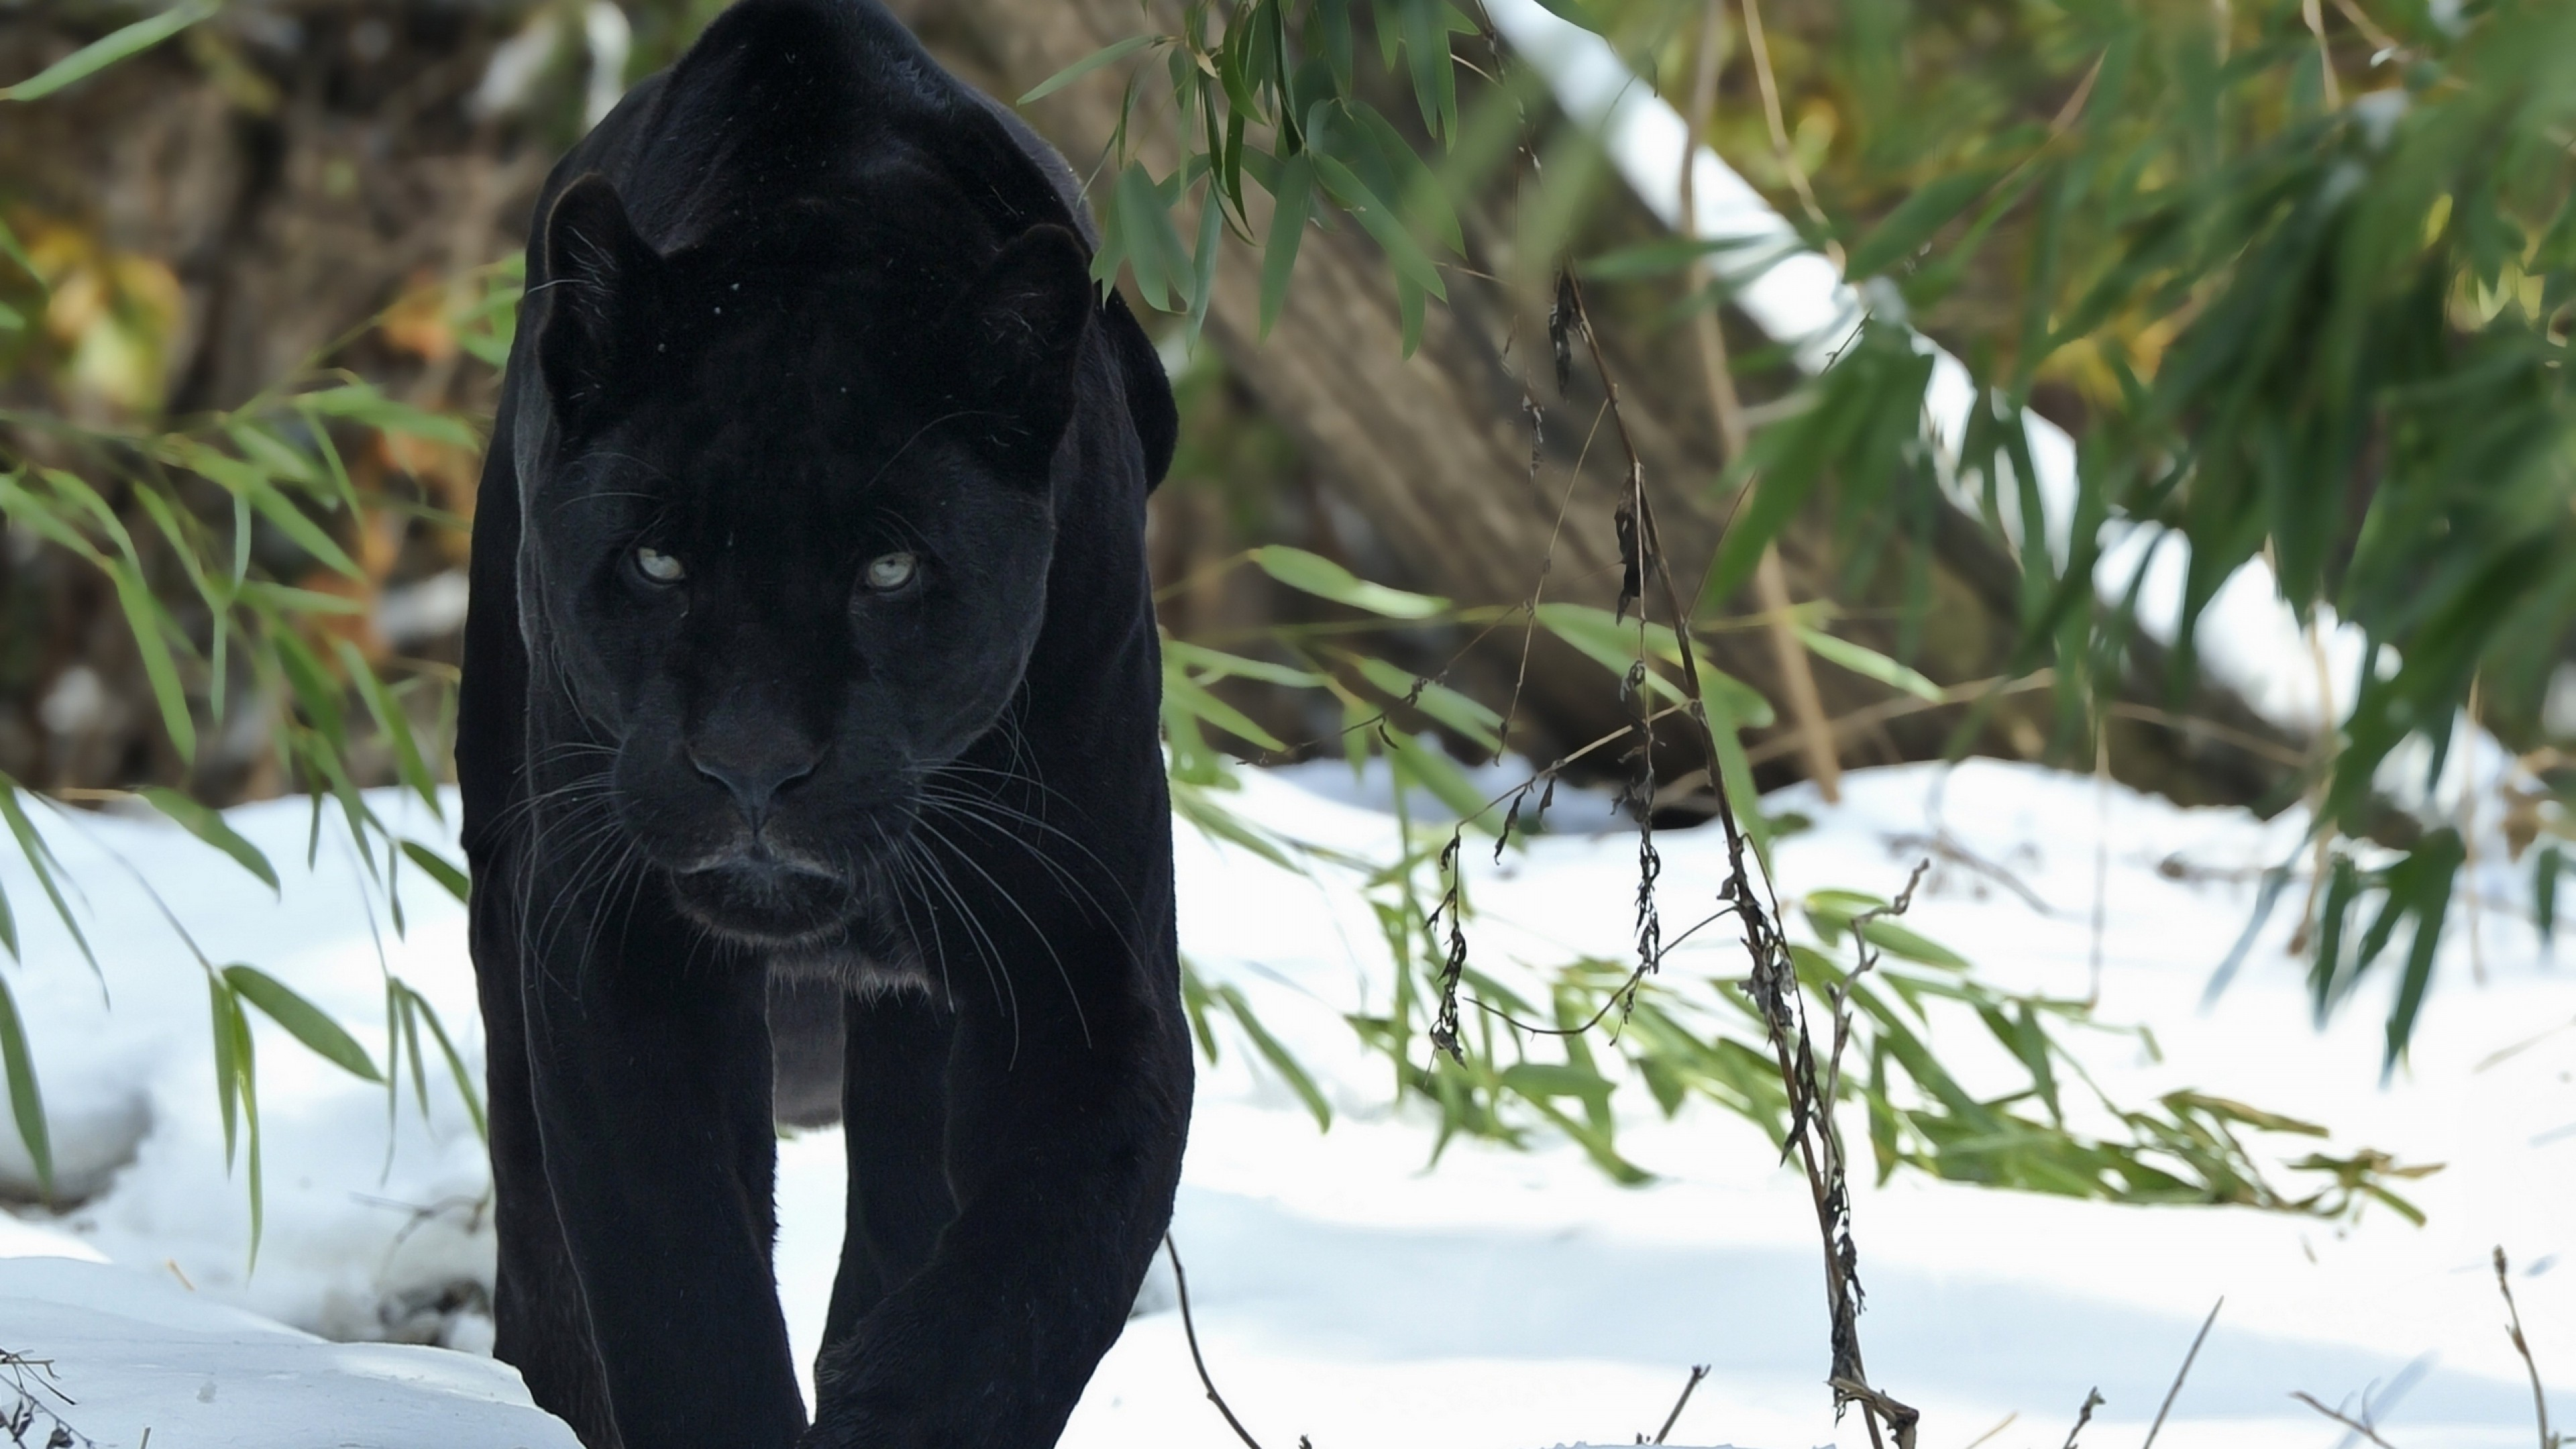panther: (501, 156, 1191, 1028)
